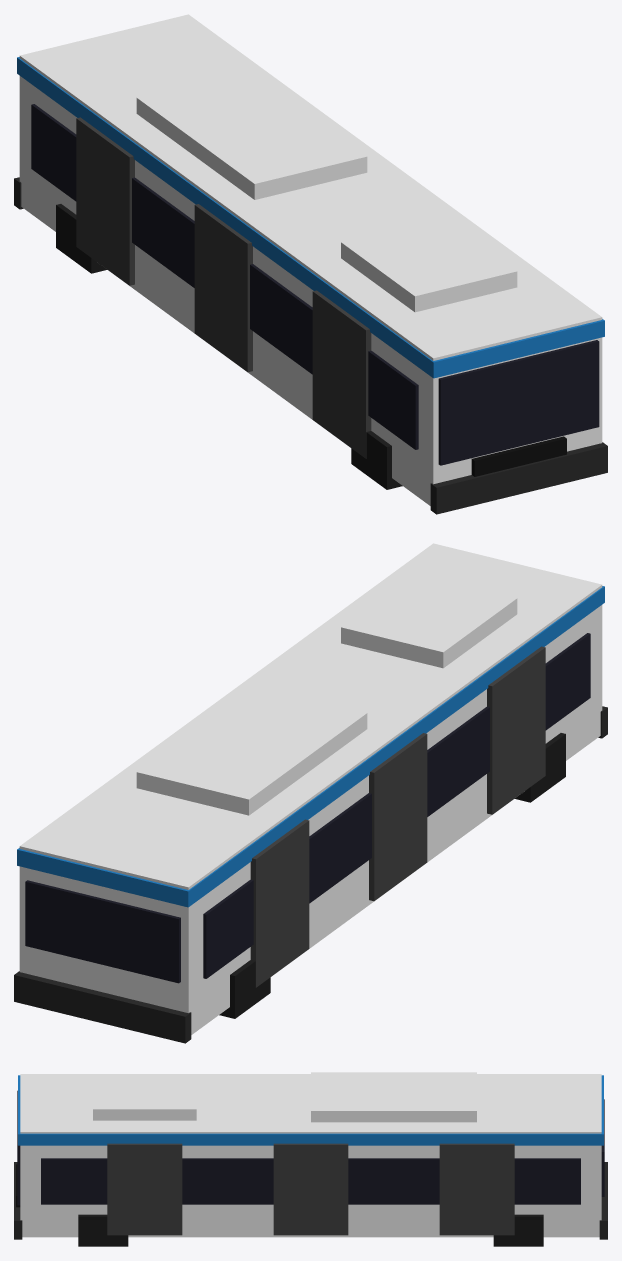
File: shuttle_bus.obj
3 renders of one model, top to bottom at view 1: azimuth 30°, elevation 25°; view 2: azimuth 150°, elevation 25°; view 3: azimuth 270°, elevation 25°, orthographic. The views are drawn at different scales.
Size of the model in its own units: 3.51 by 3.3 by 14.3.
